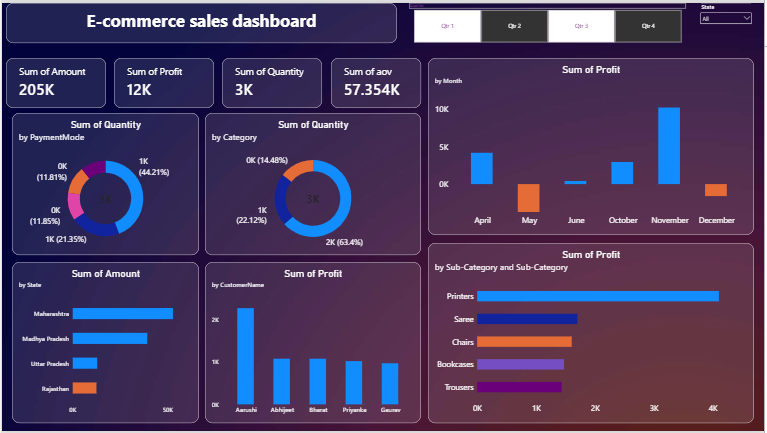

This screenshot's page, from the dashboard's own definition file:
{"tool":"powerbi","page":{"name":"Page 1","canvas":[1920,1080],"ordinal":0},"visuals":[{"type":"textbox","box":[10.1,0,985.2,100.8],"z":0},{"type":"columnChart","fields":{"Category":["Orders.Order Date.Variation.Date Hierarchy.Month"],"Y":["Sum(Details.Profit)"]},"box":[1073.4,138.6,821.4,446],"z":1000},{"type":"barChart","fields":{"Category":["Details.Sub-Category"],"Series":["Details.Sub-Category"],"Y":["Sum(Details.Profit)"]},"box":[1073.4,604.7,821.4,453.5],"z":2000},{"type":"donutChart","fields":{"Category":["Details.Category"],"Y":["Sum(Details.Quantity)"]},"box":[511.5,277.2,544.3,357.8],"z":3000},{"type":"donutChart","fields":{"Category":["Details.PaymentMode"],"Y":["Sum(Details.Quantity)"]},"box":[25.2,277.2,471.2,357.8],"z":4000},{"type":"cardVisual","fields":{"Data":["Sum(Details.Amount)"]},"box":[10.1,138.6,252,126],"z":5000},{"type":"cardVisual","fields":{"Data":["Sum(Details.Profit)"]},"box":[282.2,138.6,252,126],"z":6000},{"type":"cardVisual","fields":{"Data":["Sum(Details.Quantity)"]},"box":[572,138.6,252,126],"z":7000},{"type":"cardVisual","fields":{"Data":["Sum(Details.aod)"]},"box":[846.6,138.6,226.8,126],"z":8000},{"type":"barChart","fields":{"Category":["Orders.State"],"Y":["Sum(Details.Amount)"]},"box":[25.2,652.6,471.2,405.7],"z":9000},{"type":"columnChart","fields":{"Category":["Orders.CustomerName"],"Y":["Sum(Details.Profit)"]},"box":[511.5,652.6,544.3,405.7],"z":10000},{"type":"slicer","fields":{"Values":["Orders.Order Date.Variation.Date Hierarchy.Quarter"]},"box":[1018,0,713.1,100.8],"z":11000},{"type":"slicer","fields":{"Values":["Orders.State"]},"box":[1753.7,0,141.1,100.8],"z":11001}]}

Visuals, with their boxes in screenshot pixels (x1, y1, x2, y2), scaled from the page's 1920x1080 canvas onto the 767x433 screenshot:
textbox: [4,0,398,40]
columnChart - Orders.Order Date.Variation.Date Hierarchy.Month x Sum(Details.Profit): [429,56,757,234]
barChart - Details.Sub-Category x Details.Sub-Category: [429,242,757,424]
donutChart - Details.Category x Sum(Details.Quantity): [204,111,422,255]
donutChart - Details.PaymentMode x Sum(Details.Quantity): [10,111,198,255]
cardVisual - Sum(Details.Amount): [4,56,105,106]
cardVisual - Sum(Details.Profit): [113,56,213,106]
cardVisual - Sum(Details.Quantity): [229,56,329,106]
cardVisual - Sum(Details.aod): [338,56,429,106]
barChart - Orders.State x Sum(Details.Amount): [10,262,198,424]
columnChart - Orders.CustomerName x Sum(Details.Profit): [204,262,422,424]
slicer - Orders.Order Date.Variation.Date Hierarchy.Quarter: [407,0,692,40]
slicer - Orders.State: [701,0,757,40]
